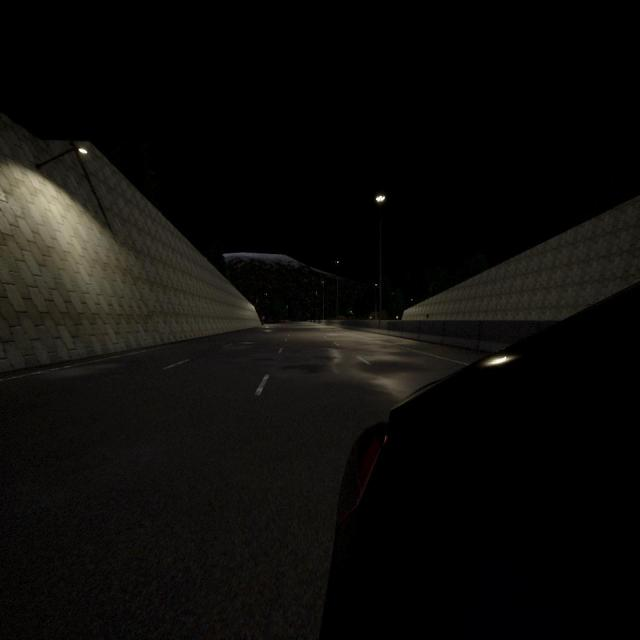Traffic_Signs: (262, 316, 265, 319), (396, 316, 399, 319)
Vehicle: (317, 283, 640, 640)
